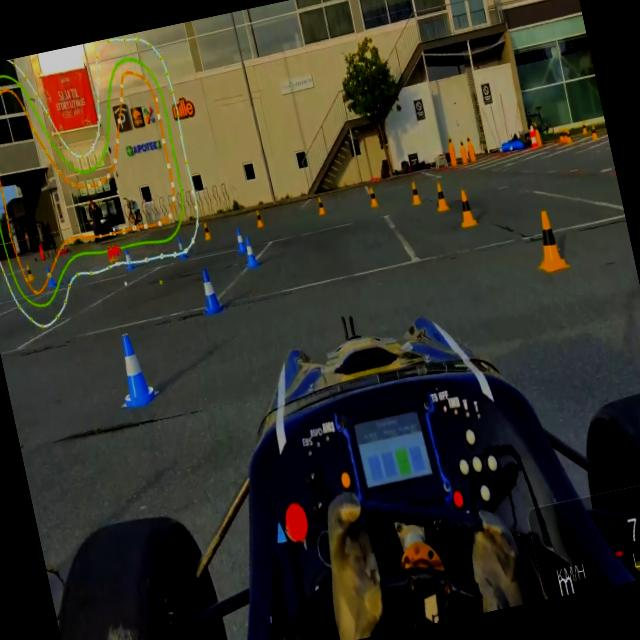blue_cone: (103, 323, 165, 418), (192, 260, 229, 320), (240, 232, 262, 270), (231, 222, 249, 256), (120, 244, 138, 275), (174, 234, 189, 260), (44, 265, 58, 289)
large_orange_cone: (524, 120, 540, 150)
yellow_cone: (524, 200, 574, 282), (452, 186, 482, 232), (432, 178, 452, 214), (406, 178, 424, 208), (199, 218, 215, 244), (365, 183, 380, 210), (252, 207, 266, 230), (314, 195, 328, 218), (23, 261, 36, 284)
